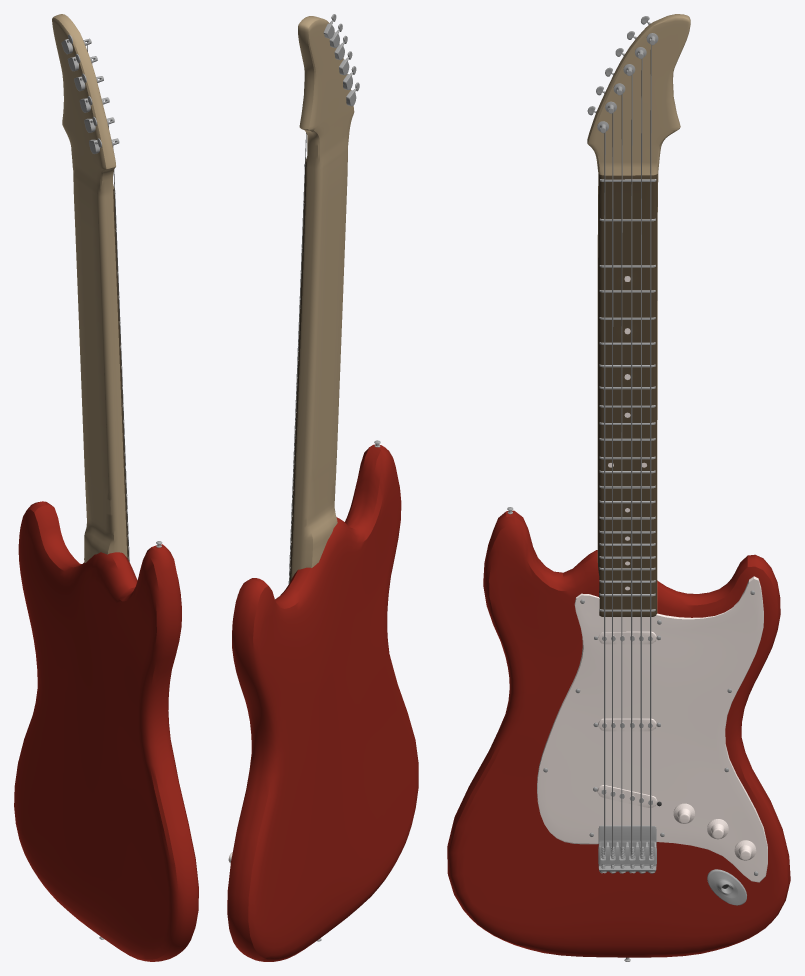
File: guitar-red.glb
3 views of the same model, side by side, from view 1: azimuth 30°, elevation 25°; view 2: azimuth 150°, elevation 25°; view 3: azimuth 270°, elevation 25° (orthographic). The views are drawn at different scales.
Visible parts, largest first — view 1: guitarBody, guitarNeck, guitarKnob_01, guitarString_01; view 2: guitarBody, guitarNeck, guitarKnob_01, guitarString_01; view 3: guitarBody, guitarBodyAccent, guitarNeck, guitarString_01, Roundcube, guitarKnob_01, plug.
Boxes of the visible parts, <box> form: guitarBody: <box>14,501,198,961</box>; guitarNeck: <box>52,14,129,562</box>; guitarKnob_01: <box>61,34,119,153</box>; guitarString_01: <box>87,42,129,561</box>; guitarBody: <box>227,444,418,961</box>; guitarNeck: <box>289,16,354,582</box>; guitarKnob_01: <box>323,14,359,106</box>; guitarString_01: <box>288,133,306,583</box>; guitarBody: <box>447,510,790,957</box>; guitarBodyAccent: <box>537,576,767,882</box>; guitarNeck: <box>587,14,690,616</box>; guitarString_01: <box>604,45,651,854</box>; Roundcube: <box>598,825,656,871</box>; guitarKnob_01: <box>587,16,658,133</box>; plug: <box>707,869,746,905</box>.
Bounding box in the file's own units: 0.9478 × 15.78 × 5.23.
